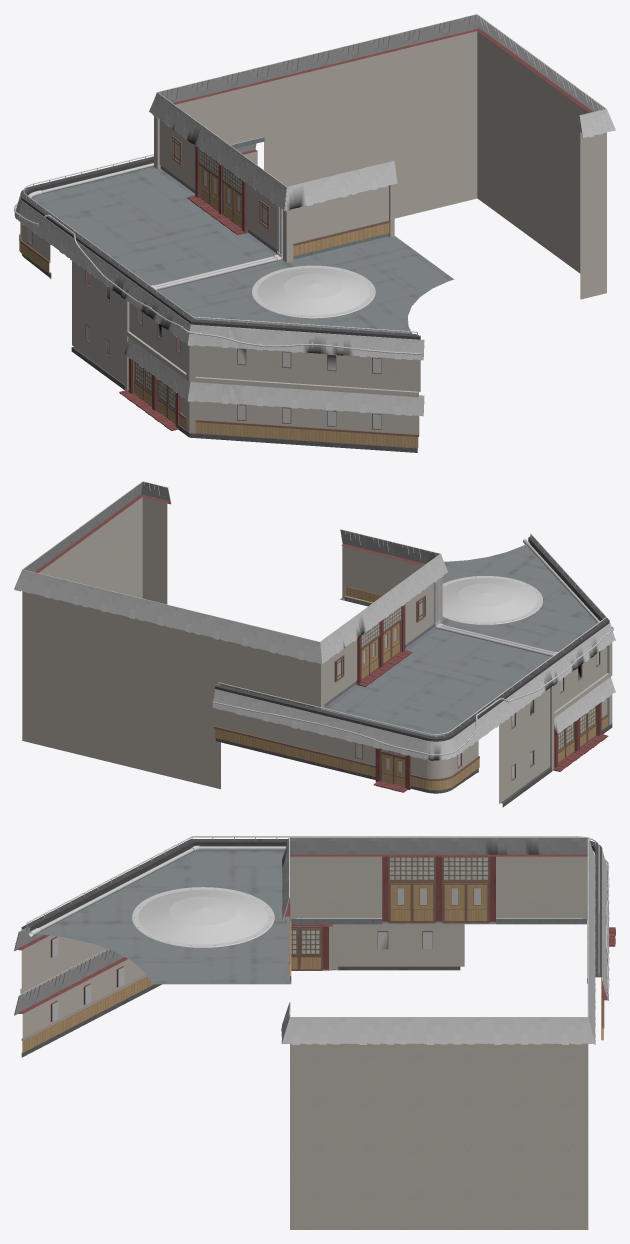
File: SM_ENV_KNVLLG_AreaJ_Building_A_Part02.fbx
The picture shows the model from 3 angles, top to bottom: view 1: azimuth 30°, elevation 25°; view 2: azimuth 150°, elevation 25°; view 3: azimuth 270°, elevation 25°; orthographic projection. The views are drawn at different scales.
Parts seen in each view (by area): view 1: SM_ENV_KNVLLG_AreaJ_Building_A_Part02.mo; view 2: SM_ENV_KNVLLG_AreaJ_Building_A_Part02.mo; view 3: SM_ENV_KNVLLG_AreaJ_Building_A_Part02.mo.
Boxes of the visible parts, bbox=[...] form: SM_ENV_KNVLLG_AreaJ_Building_A_Part02.mo: bbox=[14, 14, 615, 452]; SM_ENV_KNVLLG_AreaJ_Building_A_Part02.mo: bbox=[14, 481, 615, 807]; SM_ENV_KNVLLG_AreaJ_Building_A_Part02.mo: bbox=[14, 836, 615, 1229].
Size of the model in its own units: 9082 by 3372 by 8654.
